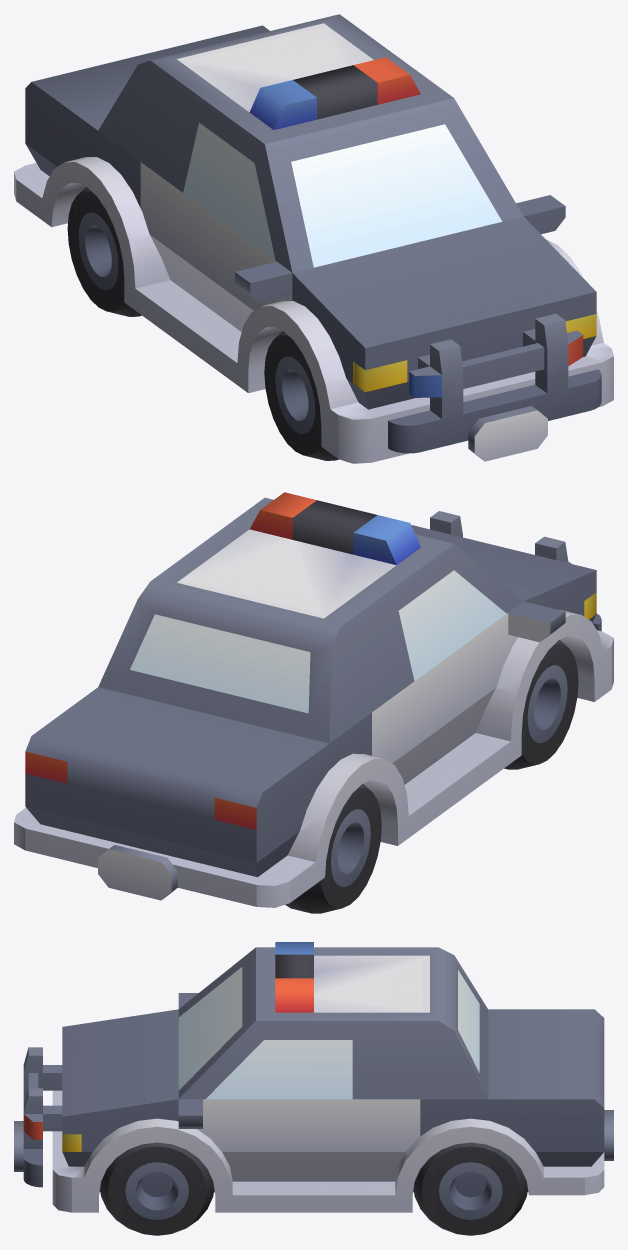
Rendered from police-transformed.glb.
3 views of the same model, one above another, from view 1: azimuth 30°, elevation 25°; view 2: azimuth 150°, elevation 25°; view 3: azimuth 270°, elevation 25° (orthographic). The views are drawn at different scales.
Visible parts, largest first — view 1: wheel-front-left; view 2: wheel-front-left; view 3: wheel-front-left.
Part boxes in pixels (box(x1,y1,x2,y2)): wheel-front-left: box(14, 14, 613, 463); wheel-front-left: box(14, 492, 613, 913); wheel-front-left: box(14, 942, 613, 1235).
Size of the model in its own units: 1.5 by 1.3 by 3.1.
Materials: 1 (1 with a texture image).
